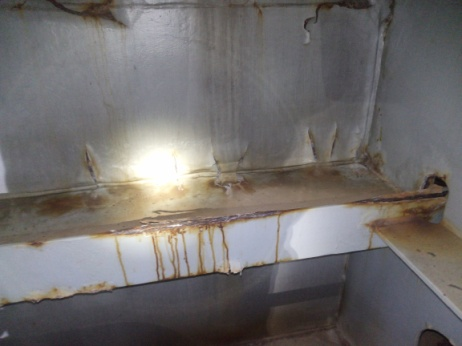corrosion: (148, 230, 236, 278), (359, 175, 454, 219), (289, 0, 381, 42), (42, 0, 151, 35), (0, 189, 102, 224), (369, 214, 456, 253), (252, 156, 354, 189), (9, 283, 125, 305), (159, 211, 290, 227), (208, 166, 256, 198), (93, 225, 155, 244), (81, 141, 100, 180), (19, 233, 55, 252)
